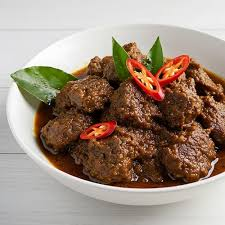Rendang: (44, 45, 225, 184)
